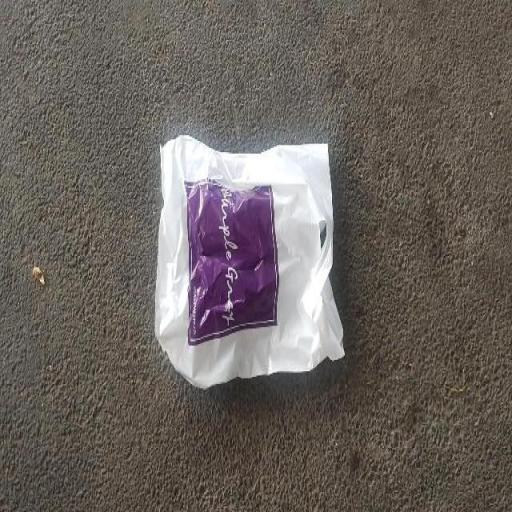plastic-bag: (154, 132, 347, 394)
